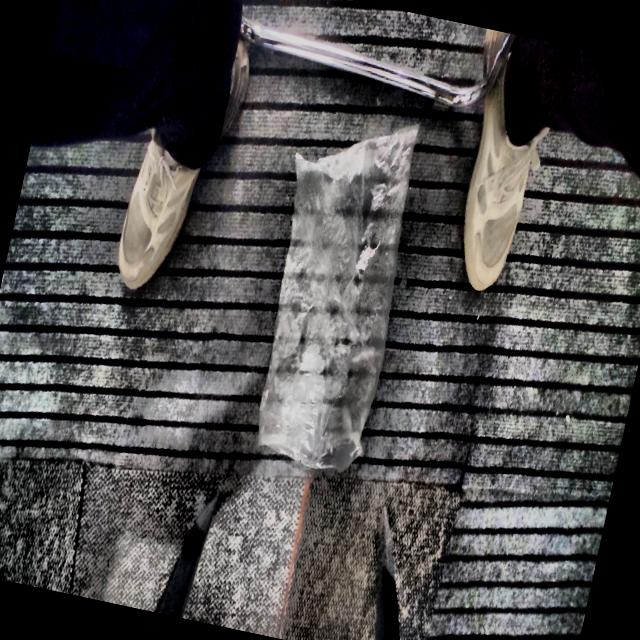plastic bag: (258, 126, 417, 470)
